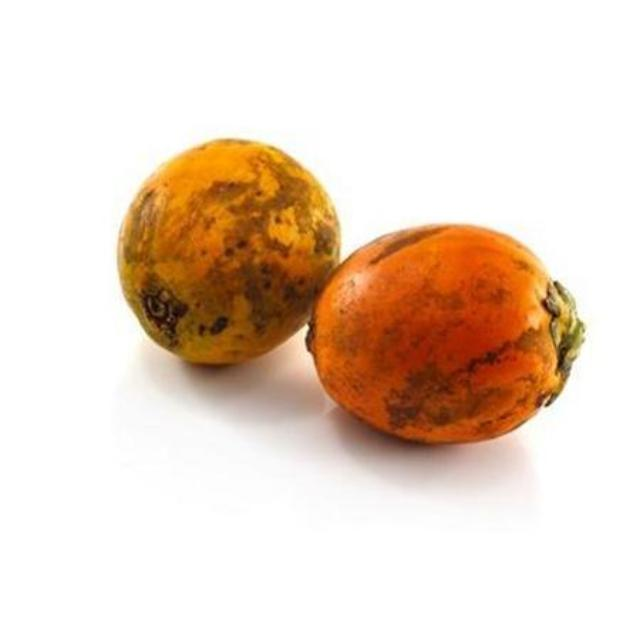good: (306, 225, 586, 447), (117, 138, 343, 367)
